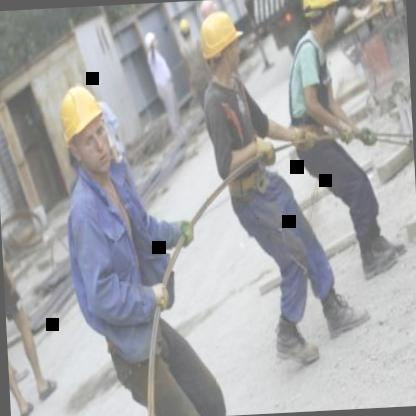helmet: (55, 80, 116, 178), (196, 5, 245, 86), (300, 0, 340, 38)
